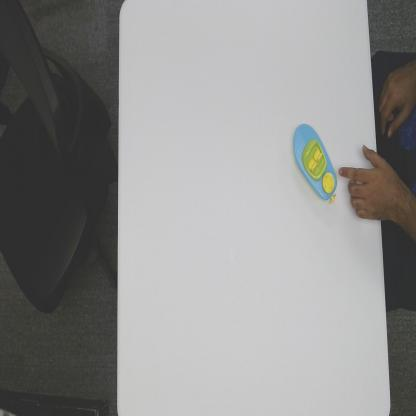Boat: (292, 120, 339, 206)
Hand: (338, 142, 380, 222)
